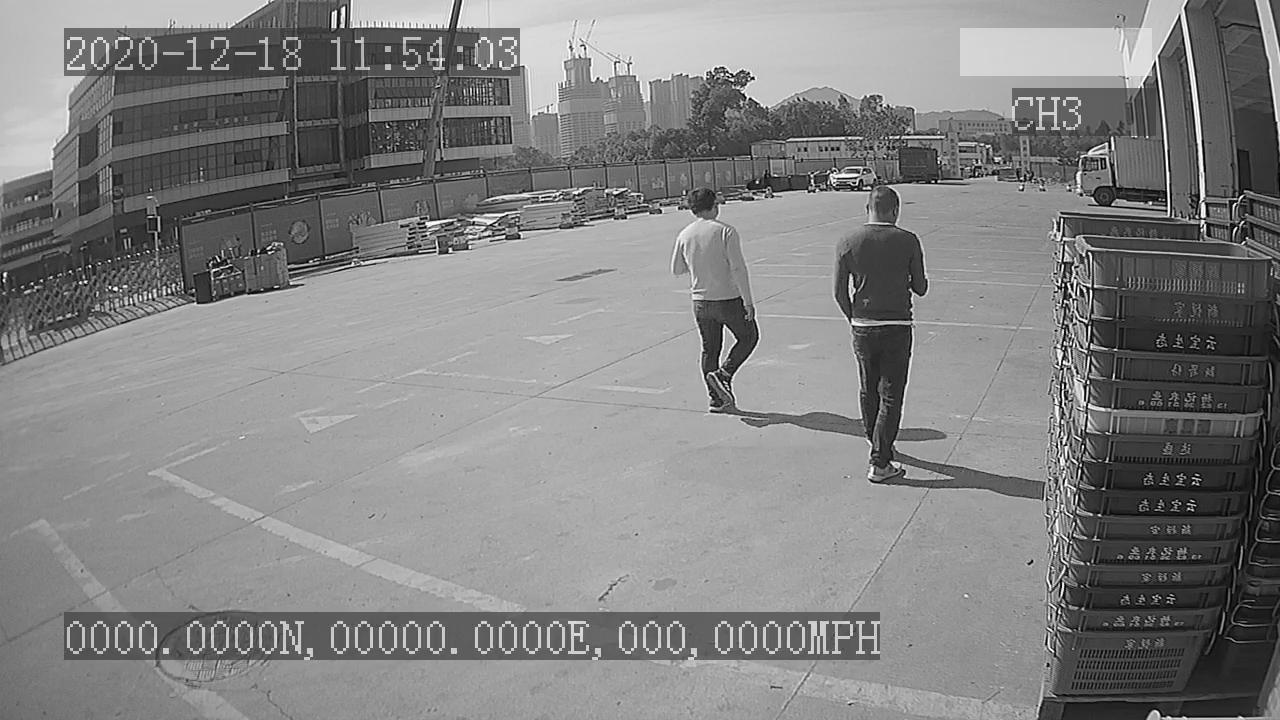person: (831, 181, 933, 490), (661, 181, 768, 422)
